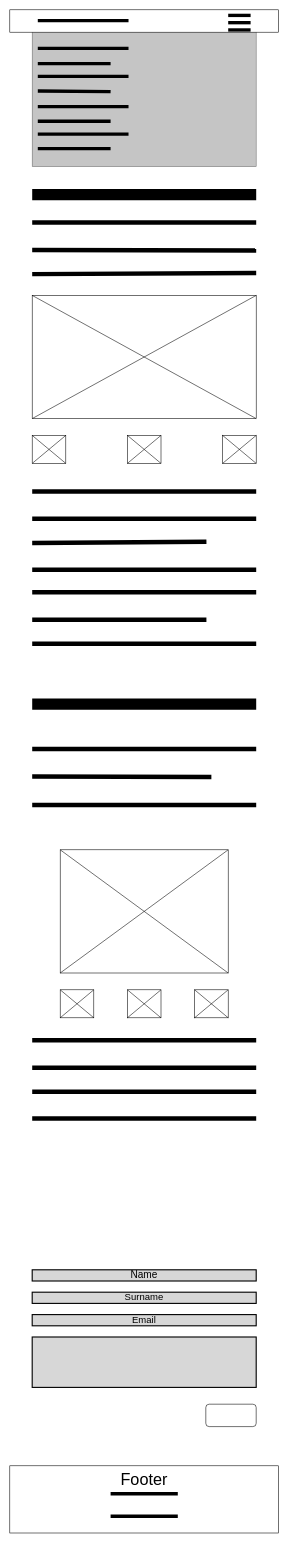
This 288x1543 diagram has some shape labels left out. Here are the shapes that lost their labels. From the top down, the box of each, then its label:
(31, 1336, 256, 1388): Address
(205, 1404, 256, 1427): Submit
